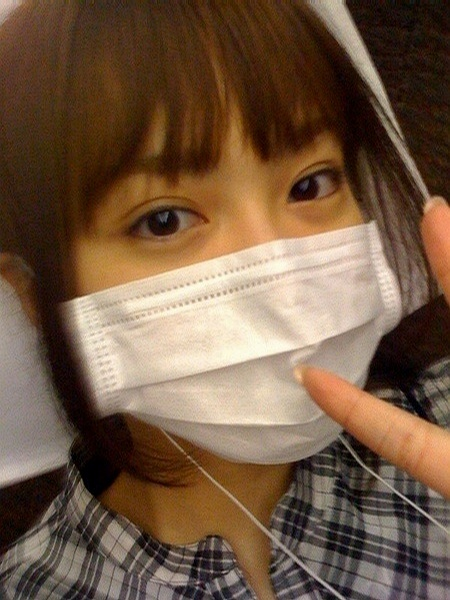face_mask: (83, 2, 399, 458)
